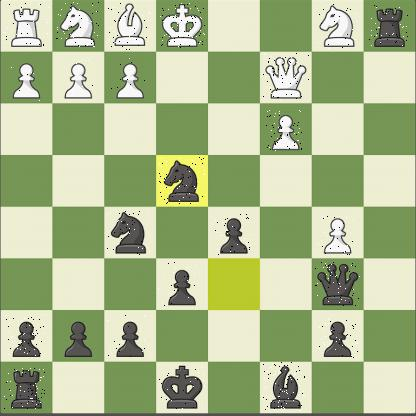Black Bishop: (262, 362, 306, 412)
Black Castle: (4, 368, 46, 410), (368, 5, 409, 47)
Black King: (158, 365, 206, 410)
Black Knight: (159, 157, 206, 205), (108, 209, 152, 256)
Black Pawn: (108, 314, 152, 358), (158, 262, 200, 308), (59, 314, 100, 359), (6, 315, 46, 359), (318, 318, 359, 359), (213, 214, 252, 256)
Black Queen: (314, 262, 362, 308)
White Bishop: (107, 3, 151, 52)
White Castle: (3, 2, 50, 50)
White King: (160, 2, 206, 50)
White Knight: (316, 2, 359, 50), (56, 2, 100, 48)
White Pawn: (58, 58, 96, 101), (6, 59, 44, 102), (318, 213, 356, 256), (111, 56, 148, 100), (265, 110, 303, 152)
White Queen: (263, 53, 310, 101)
